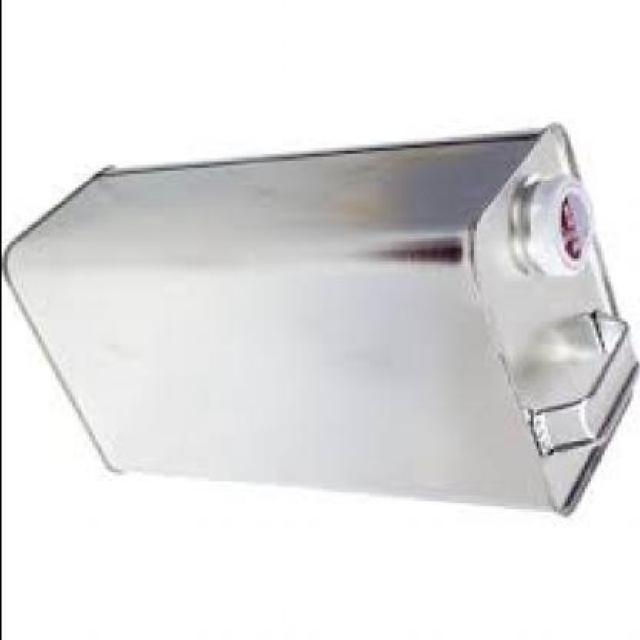metal: (7, 125, 638, 526)
